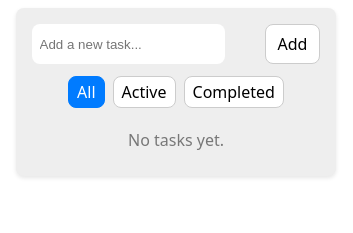
Scenario: T6 - normal title, non-empty list, filter Active › T6 - new active task should appear under Active filter
The image size is (353, 233).
Note: پیش‌شرط: لیست غیرخالی
In the field with placeholder "Add a new task...": (128, 44) [32, 24, 224, 64], type "Existing active task"
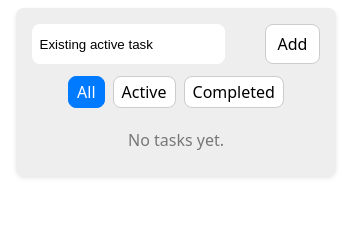
Click the button "Add": (292, 44) [264, 24, 320, 64]
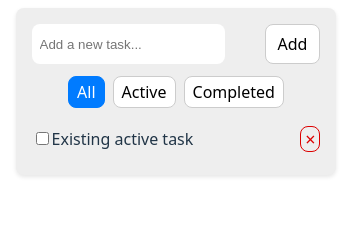
Now the text "Existing active task" is shown, box [52, 128, 193, 150]
Note: فیلتر را روی Active می‌گذاریم
Click the button "Active": (144, 92) [113, 76, 176, 108]
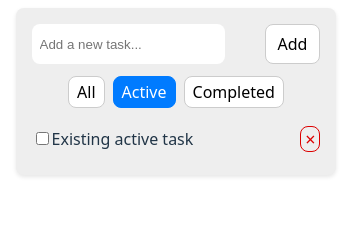
Note: افزودن تسک جدید
In the field with placeholder "Add a new task...": (128, 44) [32, 24, 224, 64], type "Buy milk"
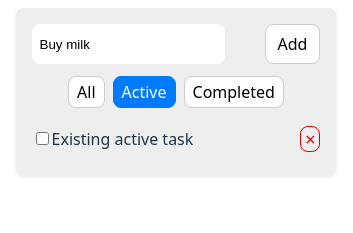
Click the button "Add": (292, 44) [264, 24, 320, 64]
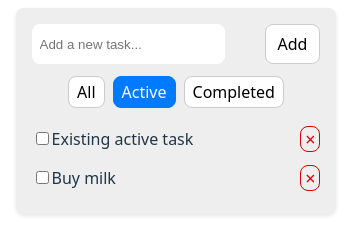
Now the text "Buy milk" is shown, box [52, 167, 116, 189]
